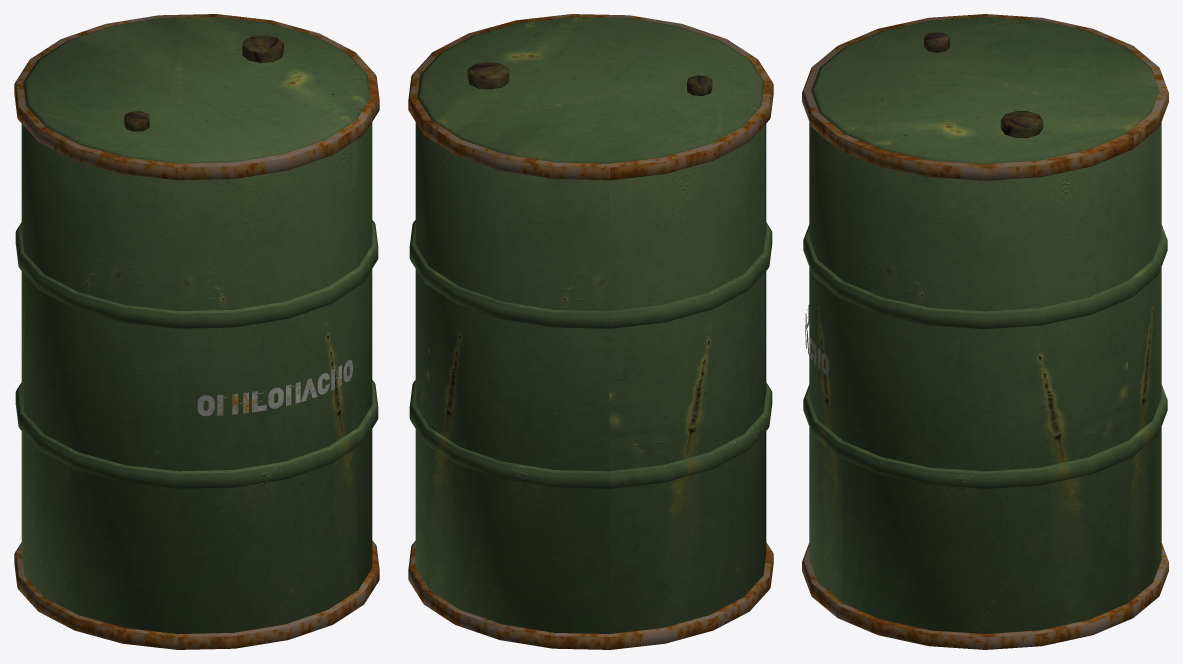
File: node_barrel.glb
The picture shows the model from 3 angles, left to right: view 1: azimuth 30°, elevation 25°; view 2: azimuth 150°, elevation 25°; view 3: azimuth 270°, elevation 25°; orthographic projection.
Visible parts, largest first — view 1: cyl, cyl.002, cyl.004, cyl.003, cyl.001, stencil, cyl.005; view 2: cyl, cyl.002, cyl.004, cyl.003, cyl.001, cyl.005; view 3: cyl, cyl.002, cyl.004, cyl.003, cyl.001, cyl.005.
Part boxes in pixels (x1,y1,x2,y2): cyl: [21, 17, 372, 633]; cyl.002: [14, 14, 379, 180]; cyl.004: [15, 220, 378, 328]; cyl.003: [15, 380, 378, 488]; cyl.001: [14, 541, 379, 649]; stencil: [197, 360, 352, 416]; cyl.005: [242, 35, 283, 62]; cyl: [415, 17, 766, 633]; cyl.002: [408, 14, 773, 180]; cyl.004: [409, 220, 772, 328]; cyl.003: [409, 380, 772, 488]; cyl.001: [408, 541, 773, 649]; cyl.005: [467, 62, 509, 89]; cyl: [809, 17, 1161, 633]; cyl.002: [802, 14, 1168, 180]; cyl.004: [803, 225, 1167, 329]; cyl.003: [803, 385, 1167, 488]; cyl.001: [802, 543, 1168, 649]; cyl.005: [1000, 111, 1043, 137].
Bounding box in the file's own units: 0.604 × 0.9 × 0.604.
Materials: 4 (4 with a texture image).
